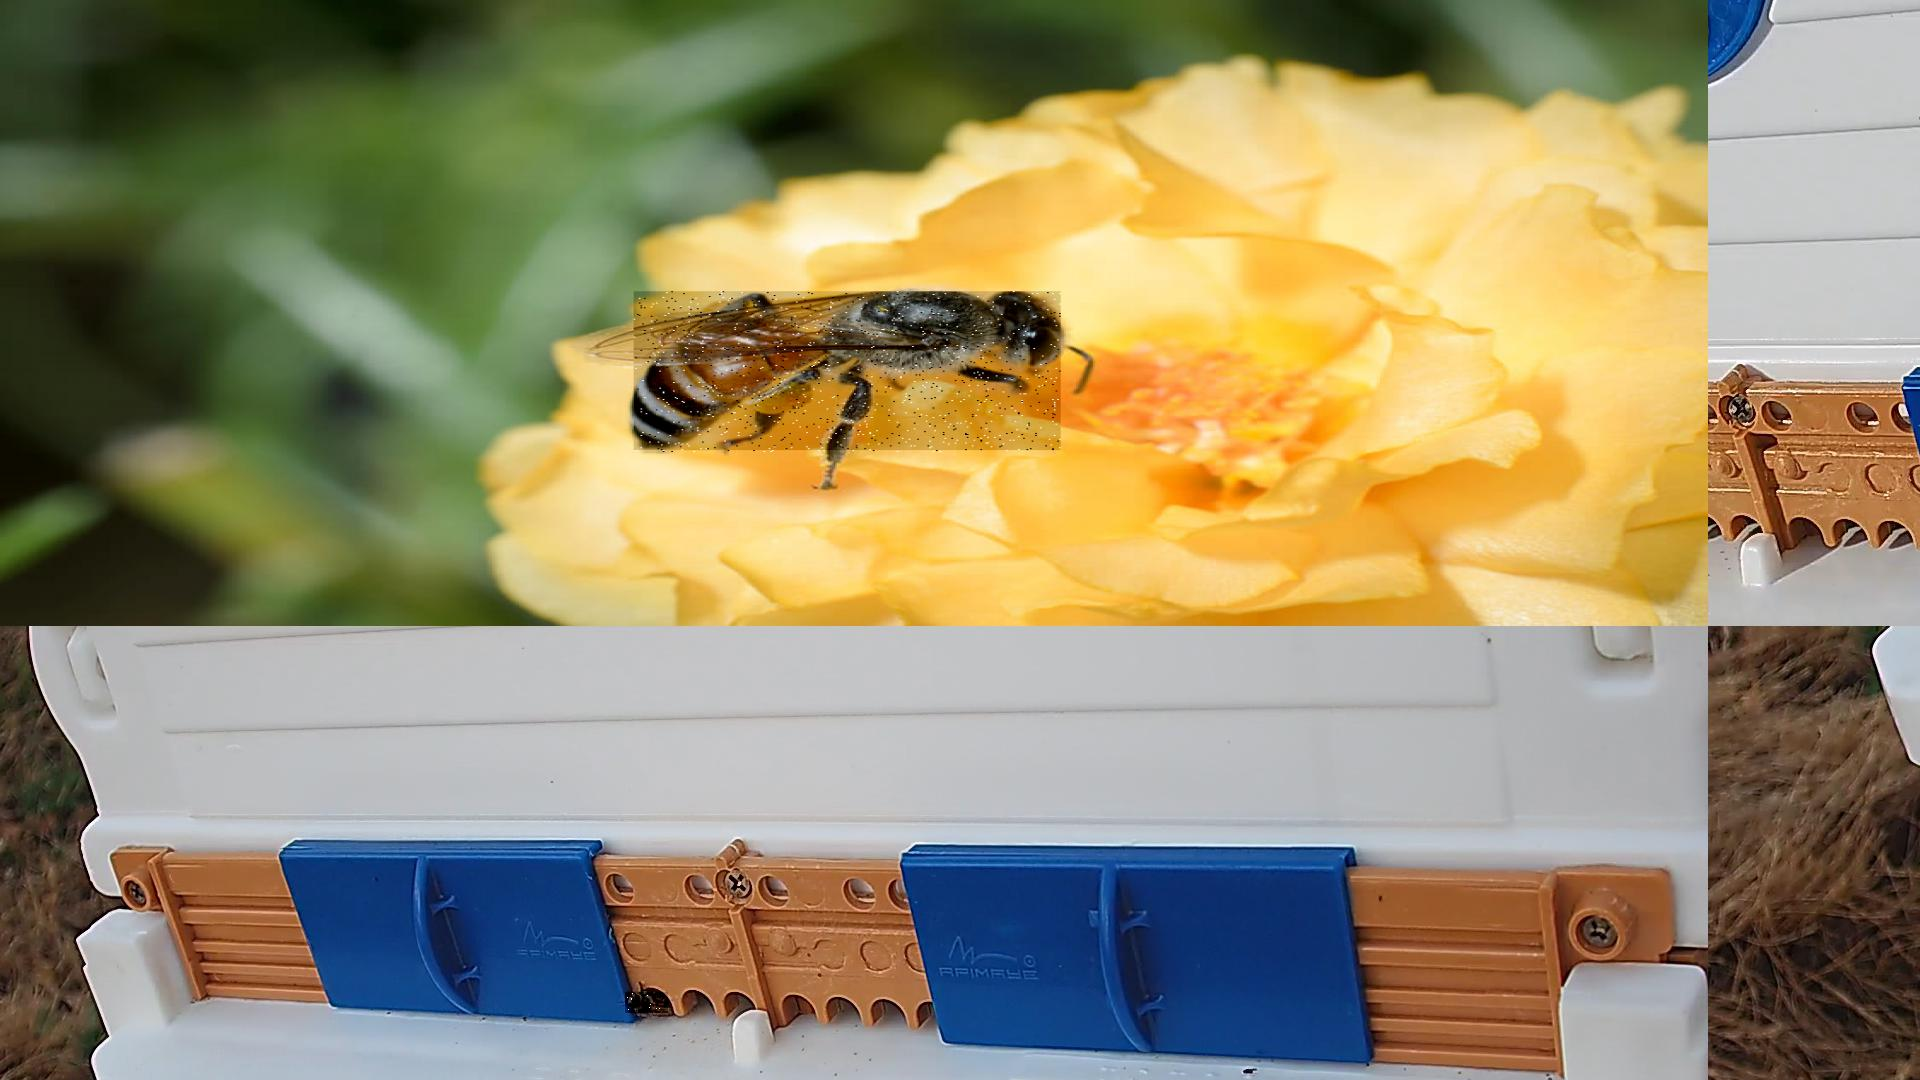bee: (625, 992, 669, 1014)
pollenbee: (633, 293, 1063, 454)
